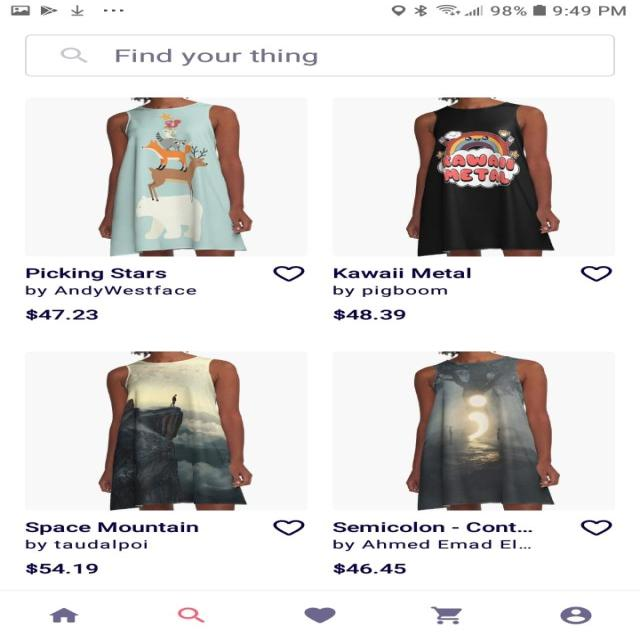EditText: (24, 34, 614, 76)
Icon: (429, 606, 462, 624), (559, 606, 591, 624), (272, 519, 305, 535), (580, 519, 612, 535), (303, 607, 335, 623), (580, 266, 612, 281), (273, 266, 305, 281), (61, 47, 88, 63), (177, 606, 204, 622), (50, 608, 80, 622)
Image: (25, 352, 307, 511), (332, 351, 614, 510), (25, 98, 308, 256), (332, 98, 614, 256)
Text: (332, 521, 532, 550), (25, 267, 196, 297), (25, 522, 198, 550), (332, 267, 470, 297), (115, 48, 318, 66), (332, 308, 406, 321), (26, 308, 98, 321), (25, 562, 98, 574), (334, 563, 406, 574)
